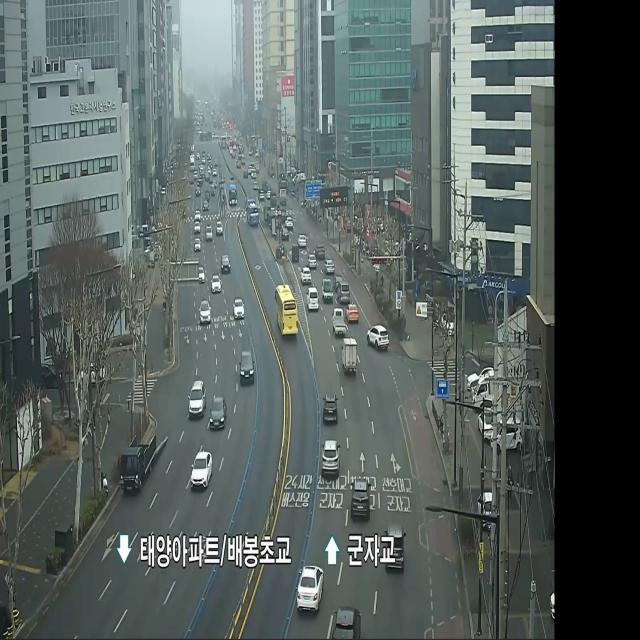car: (274, 282, 298, 342), (245, 199, 260, 228), (227, 184, 238, 210)
motorcycle: (296, 562, 322, 615), (348, 475, 371, 525), (189, 448, 213, 494), (322, 436, 342, 482), (208, 393, 229, 434), (188, 378, 207, 422), (367, 321, 390, 354), (238, 349, 256, 389), (319, 387, 338, 423), (232, 294, 246, 324), (306, 285, 321, 312), (334, 282, 350, 305), (199, 298, 212, 326), (210, 271, 223, 296), (347, 299, 359, 326), (301, 263, 313, 285), (220, 253, 232, 274)
truck: (120, 434, 158, 498), (341, 337, 358, 376), (330, 304, 347, 342), (320, 274, 334, 304)
